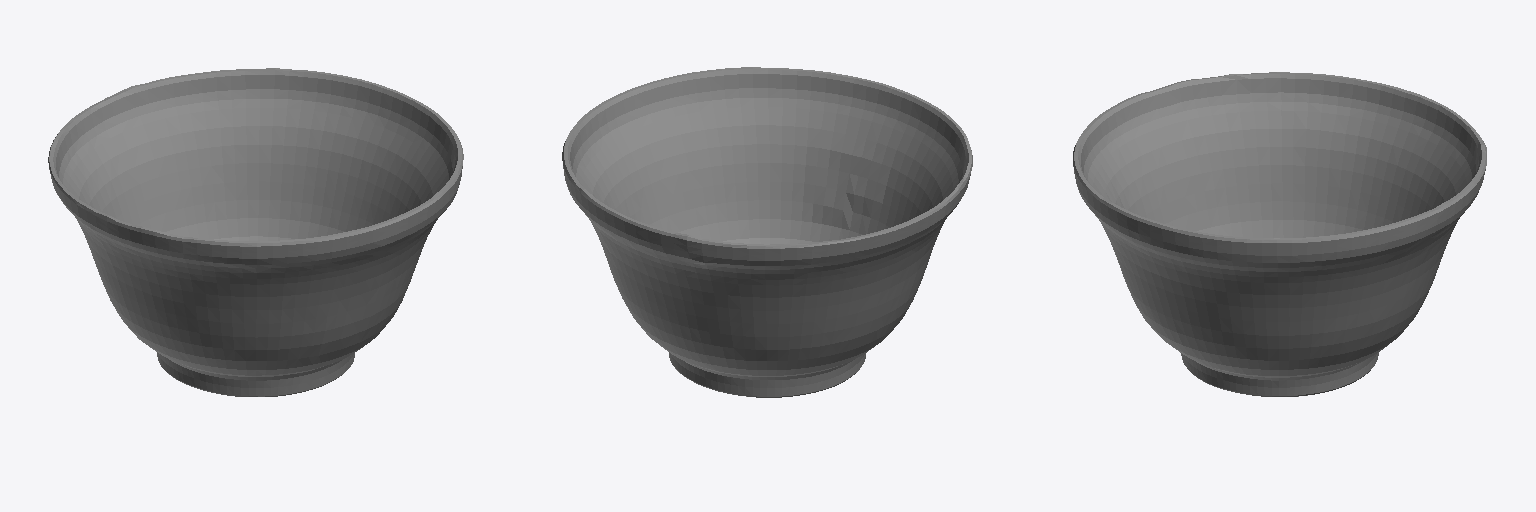
The picture shows the model from 3 angles: view 1: azimuth 30°, elevation 25°; view 2: azimuth 150°, elevation 25°; view 3: azimuth 270°, elevation 25°; orthographic projection.
Visible parts, largest first — view 1: SZB_YS_141; view 2: SZB_YS_141; view 3: SZB_YS_141.
Part boxes in pixels (x1,y1,x2,y2): SZB_YS_141: (48,68,463,396); SZB_YS_141: (562,67,972,397); SZB_YS_141: (1073,72,1486,396).
Bounding box in the file's own units: 100 × 55.05 × 101.